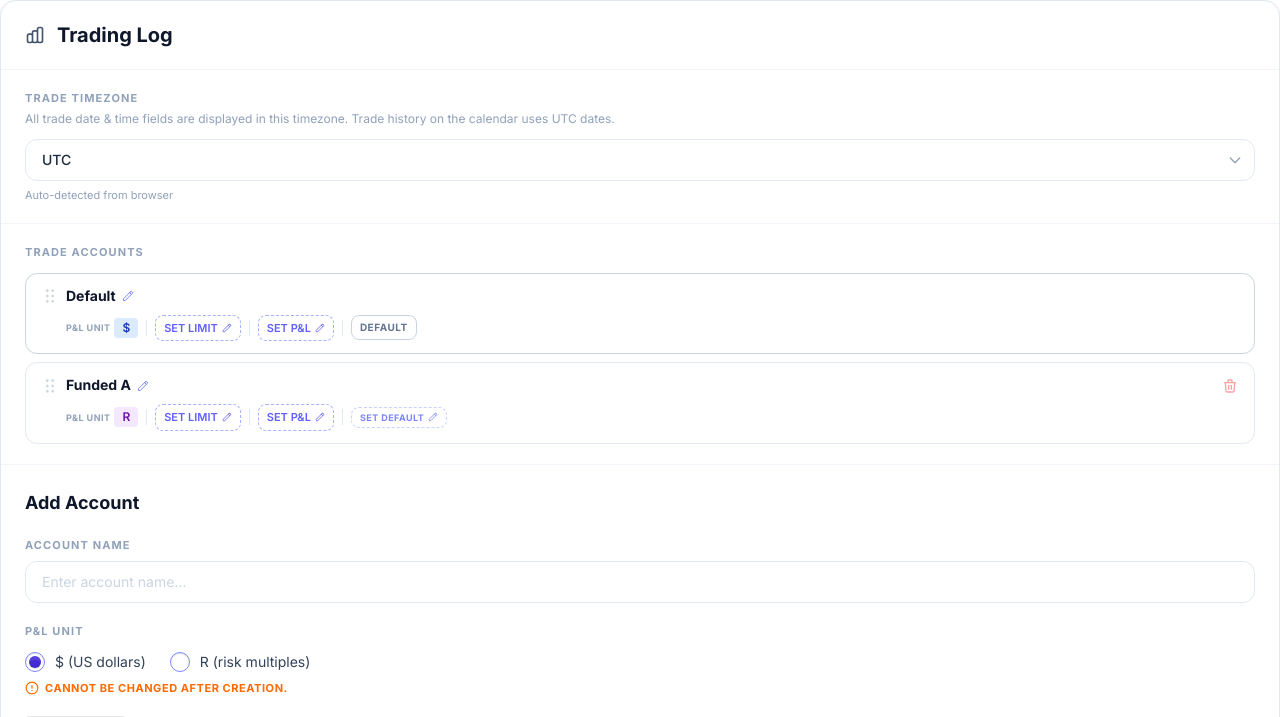
Test: TradingLogSettings › shows delete confirm for non-default account
Expected: the text "Funded A" is shown, [66, 375, 131, 396]
Step 1. Click the button named "Delete Funded A" → (1230, 386), box [1222, 378, 1238, 394]
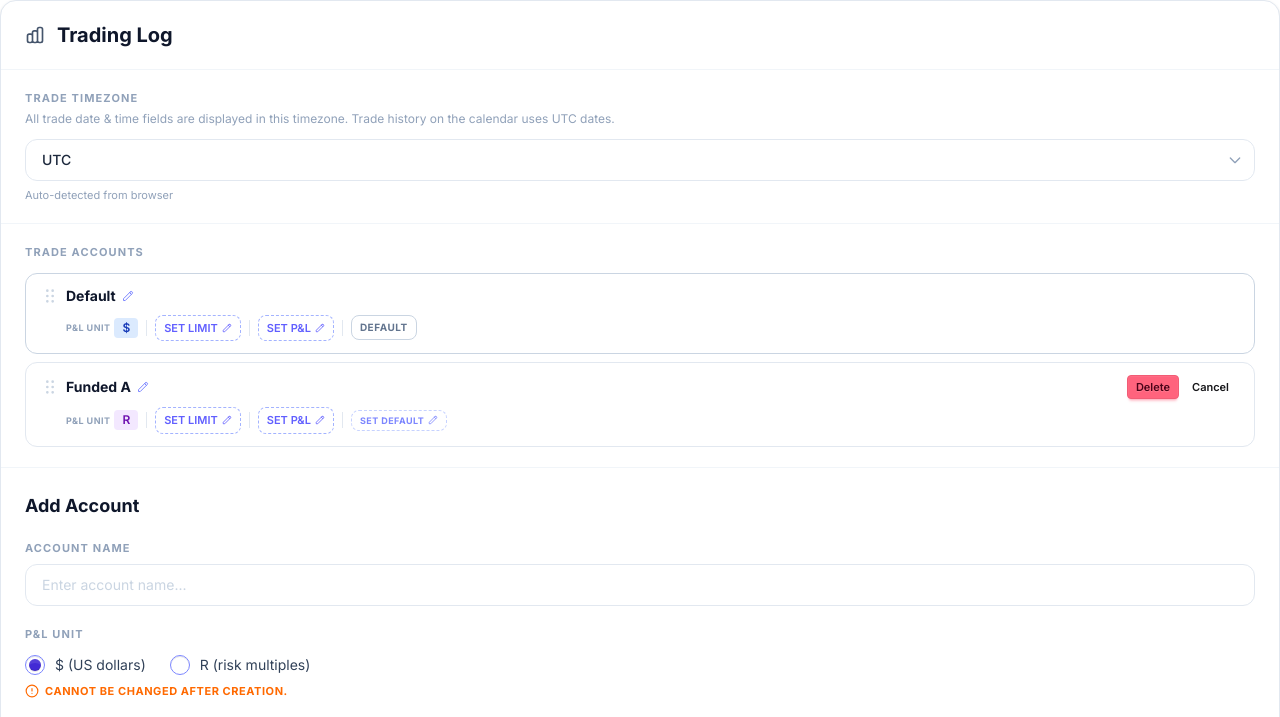
Result: the button "Delete" is shown at [1127, 375, 1179, 399]
Result: the button "Cancel" is shown at [1183, 375, 1238, 399]
